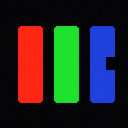1 square: (106, 57, 118, 69)
